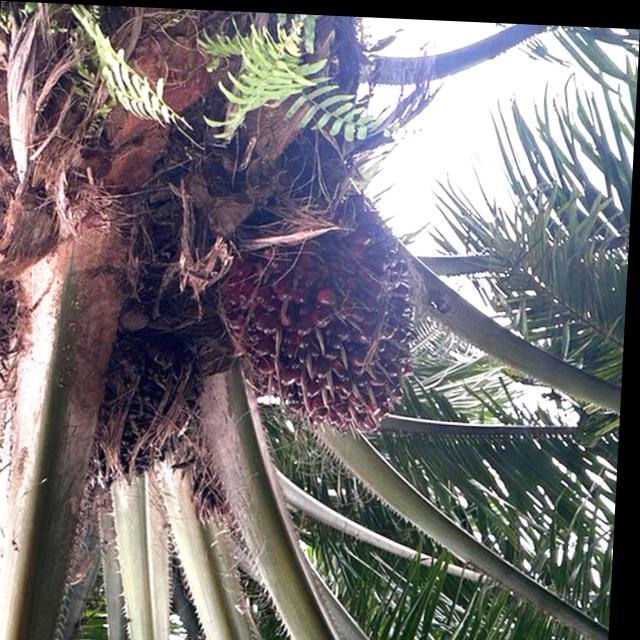ripe: (195, 194, 441, 453)
